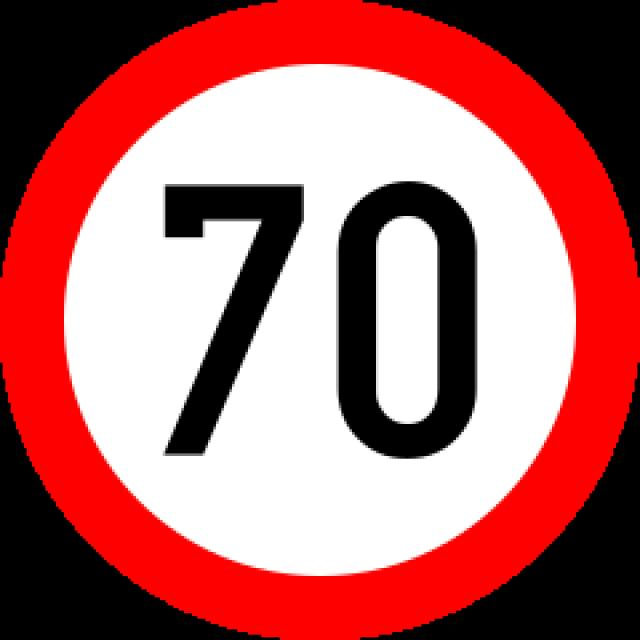Speed Limit -70-: (111, 153, 507, 505)
